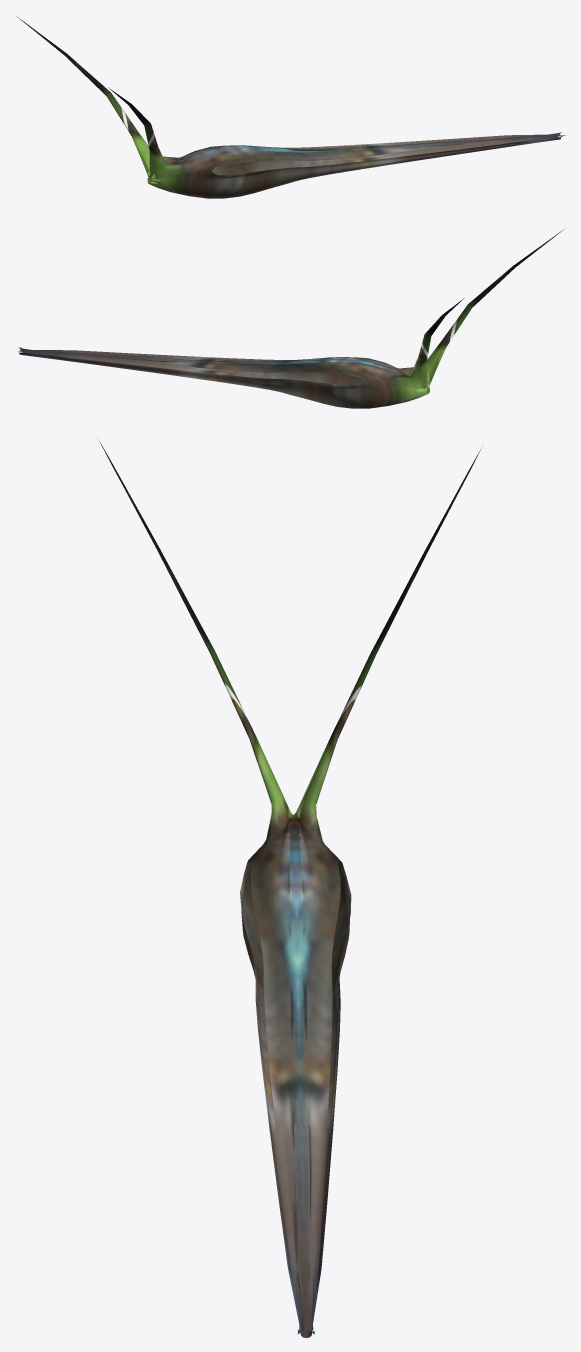
File: cuerpo_mariposa.obj
The picture shows the model from 3 angles, top to bottom: view 1: azimuth 30°, elevation 25°; view 2: azimuth 150°, elevation 25°; view 3: azimuth 270°, elevation 25°; orthographic projection. The views are drawn at different scales.
Parts seen in each view (by area): view 1: Cylinder10; view 2: Cylinder10; view 3: Cylinder10.
Boxes of the visible parts, <box> form: Cylinder10: <box>16,16,566,198</box>; Cylinder10: <box>18,229,563,408</box>; Cylinder10: <box>99,441,481,1337</box>.
Bounding box in the file's own units: 21.89 × 8.79 × 7.34.
